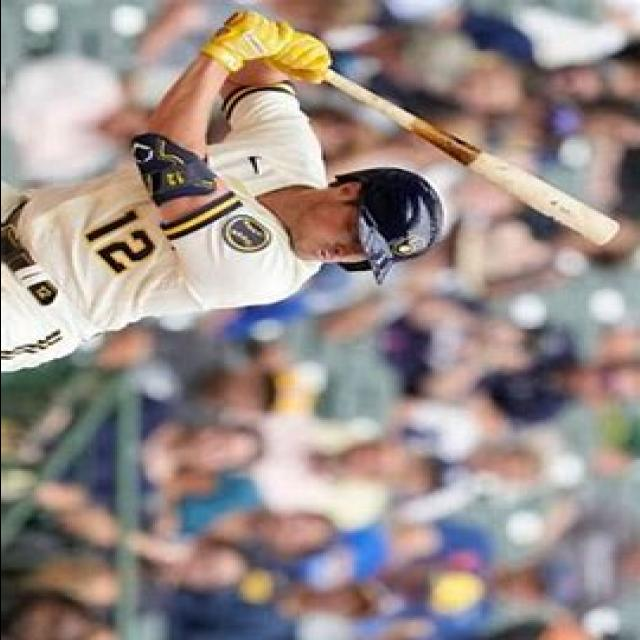bat: (315, 61, 628, 255)
